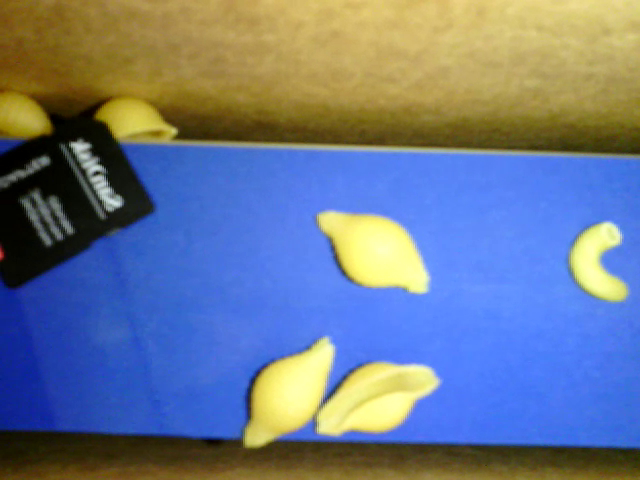elbow: (566, 217, 630, 302)
shell: (238, 340, 335, 449), (315, 356, 445, 435), (318, 213, 428, 293), (93, 92, 178, 145), (1, 88, 54, 137)
